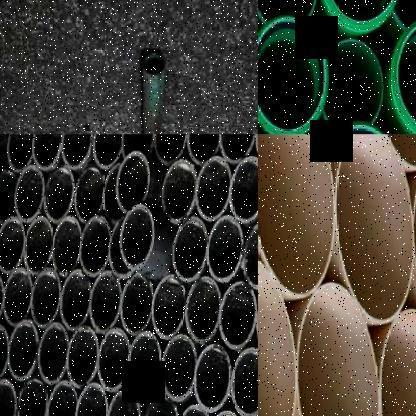pipe: (335, 134, 413, 322), (258, 134, 335, 299), (298, 283, 380, 416), (258, 15, 329, 134), (257, 251, 296, 416), (320, 39, 384, 133), (379, 309, 416, 416), (390, 16, 416, 134), (320, 0, 402, 33), (219, 280, 257, 349), (206, 215, 244, 283), (194, 344, 230, 412), (172, 216, 209, 282), (119, 204, 156, 270), (162, 334, 197, 402), (195, 155, 231, 221), (186, 276, 221, 342), (152, 274, 186, 340), (162, 160, 197, 224), (115, 150, 150, 214), (127, 332, 160, 398), (120, 273, 154, 336), (97, 327, 129, 392), (90, 270, 121, 334), (229, 156, 258, 223), (67, 326, 98, 388), (80, 214, 110, 278), (60, 269, 91, 330), (38, 322, 68, 385), (231, 347, 258, 416), (51, 215, 81, 277), (9, 320, 38, 381), (24, 215, 53, 276), (31, 268, 60, 328), (3, 266, 32, 326), (44, 165, 74, 222), (108, 216, 135, 278), (14, 166, 44, 221), (75, 168, 104, 223), (258, 0, 317, 24), (0, 216, 24, 274), (102, 162, 124, 224), (17, 375, 48, 416), (47, 379, 78, 416), (187, 134, 222, 166), (218, 134, 256, 163), (76, 382, 108, 416), (7, 134, 35, 172), (32, 134, 62, 169), (62, 134, 92, 168), (154, 134, 188, 164), (93, 134, 122, 169), (0, 168, 18, 224), (244, 220, 258, 290), (107, 388, 141, 416), (142, 392, 178, 416), (120, 134, 154, 157), (0, 378, 17, 416), (143, 52, 165, 76), (0, 323, 8, 382), (0, 134, 11, 175), (175, 404, 210, 416), (206, 410, 244, 416)
